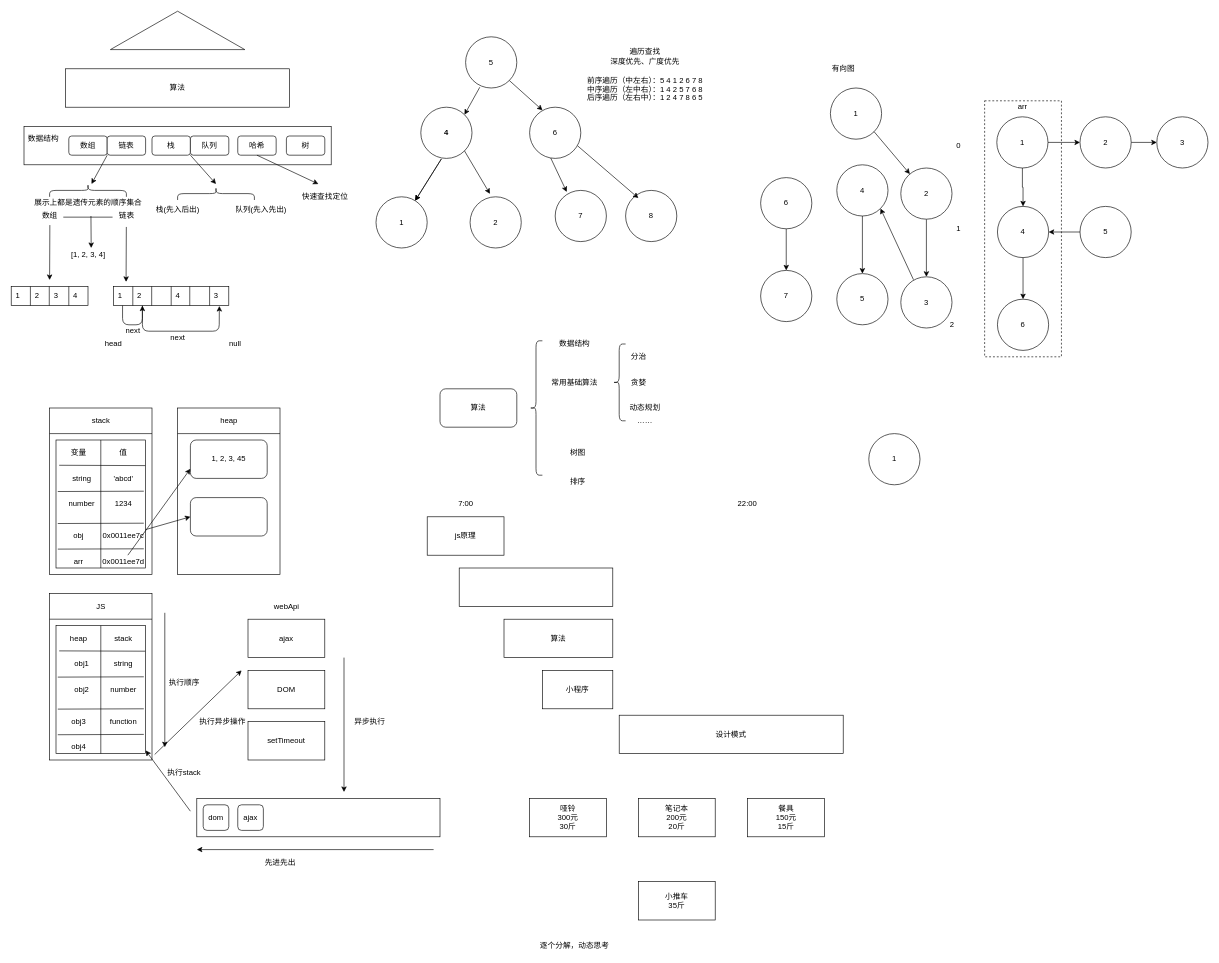
Image size: 1219x963. Some labels were removed from this diagram. Each missing label, with the box of its shape:
callBackQueue: (196, 798, 440, 837)
nodejs开发: (459, 567, 613, 606)
{ a: 1 }: (190, 497, 267, 536)
功能: (110, 11, 245, 50)
